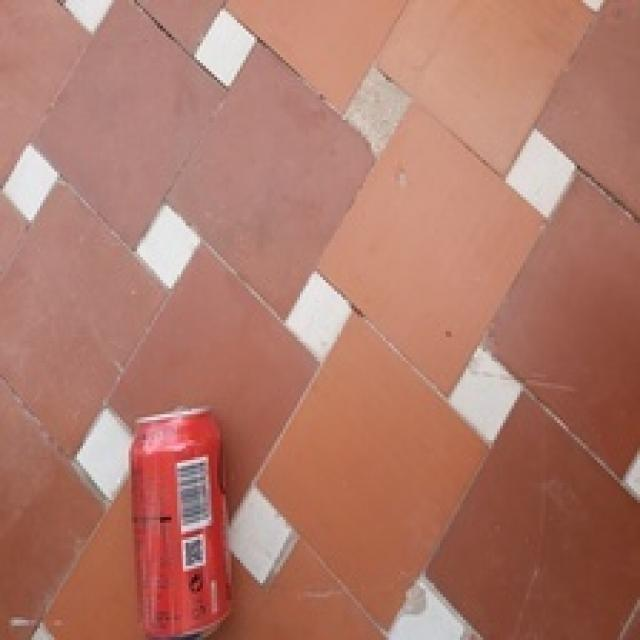recyclable: (128, 406, 236, 640)
